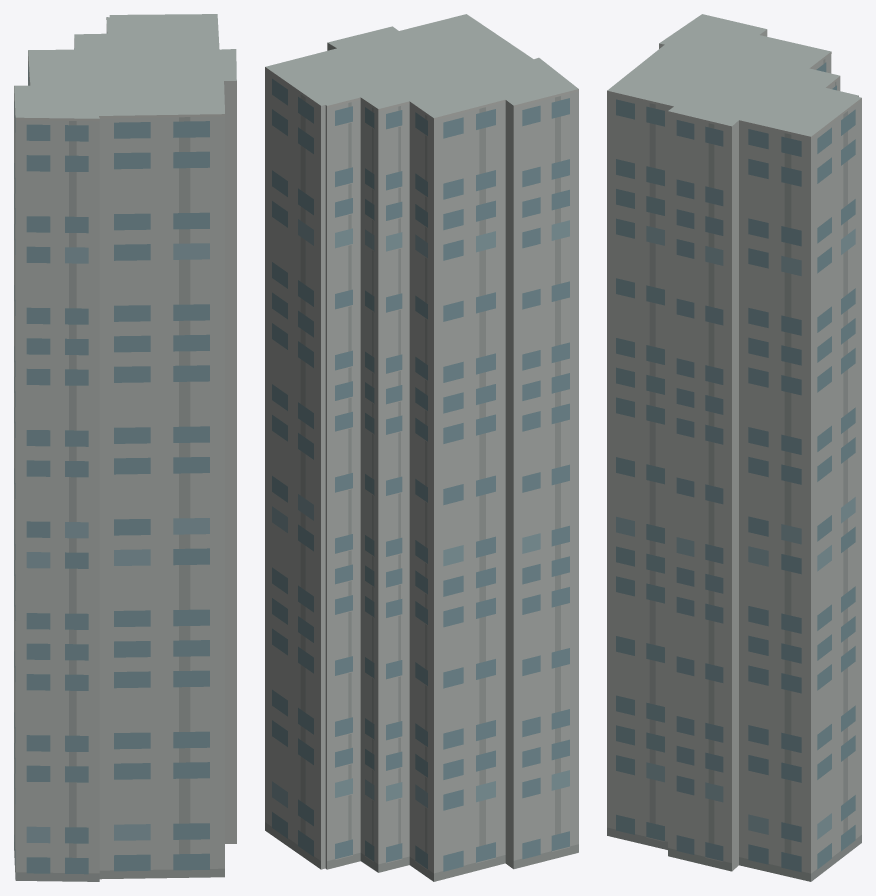
The model's file is survey-upis-32566736.glb.
The picture shows the model from 3 angles, left to right: view 1: azimuth 30°, elevation 25°; view 2: azimuth 150°, elevation 25°; view 3: azimuth 270°, elevation 25°; orthographic projection. The views are drawn at different scales.
Visible parts, largest first — view 1: survey-upis-32566736.tmp; view 2: survey-upis-32566736.tmp; view 3: survey-upis-32566736.tmp.
Part boxes in pixels (bbox=[...]): survey-upis-32566736.tmp: bbox=[14, 14, 236, 881]; survey-upis-32566736.tmp: bbox=[265, 14, 578, 881]; survey-upis-32566736.tmp: bbox=[607, 14, 861, 881].
Size of the model in its own units: 26.96 by 76.25 by 23.63.
